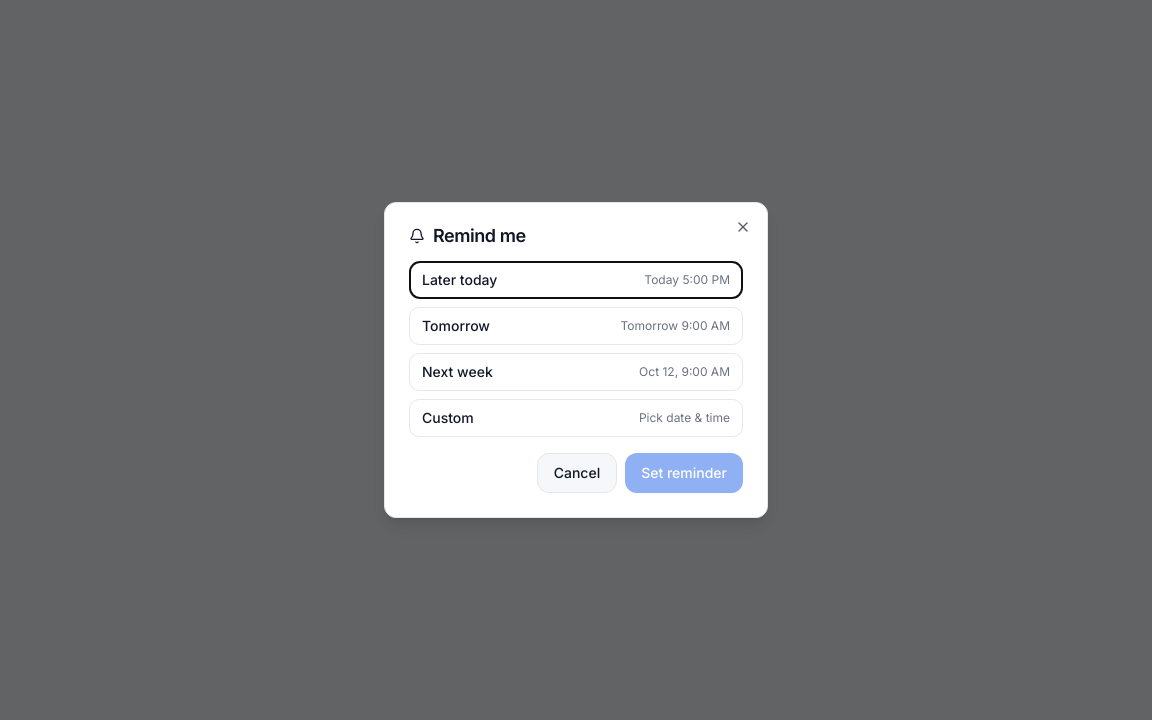
Test: Remind me dialog › rejects a custom time in the past and keeps Save disabled
Click the button with test id "remind-preset-custom".
click(448, 418)  # box [409,399,743,437]
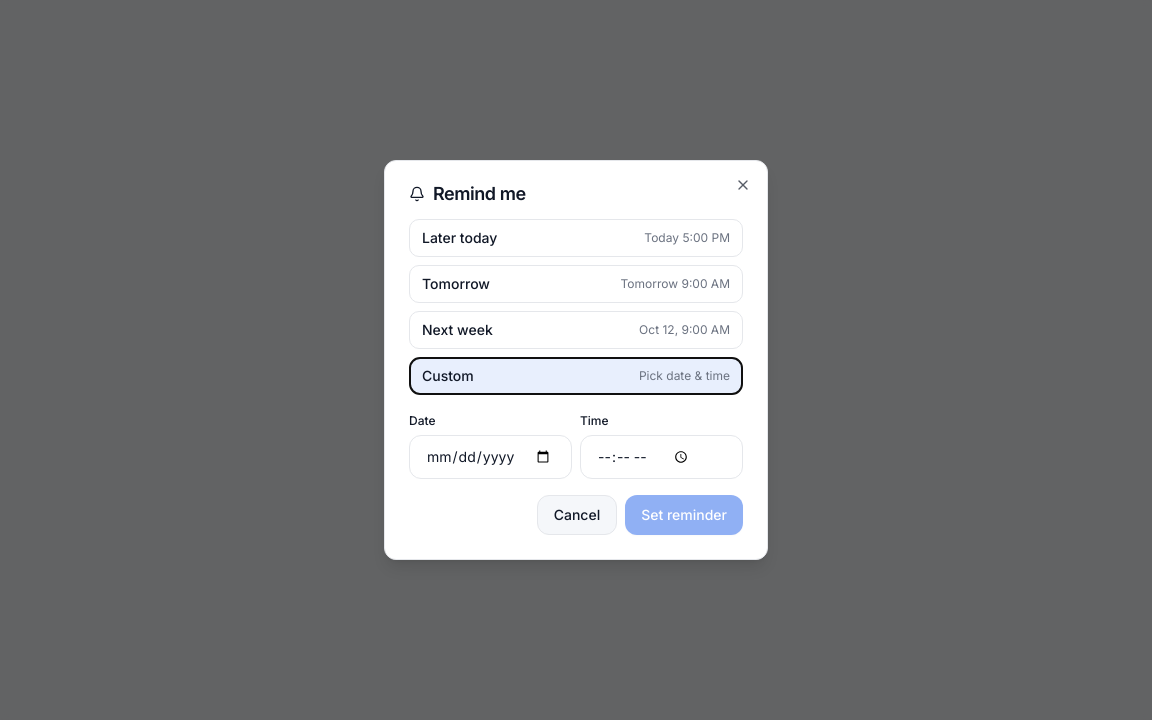
Type "2026-10-06" into the date field labelled "Date".
click(490, 457); type("2026-10-06")  # box [409,435,572,479]
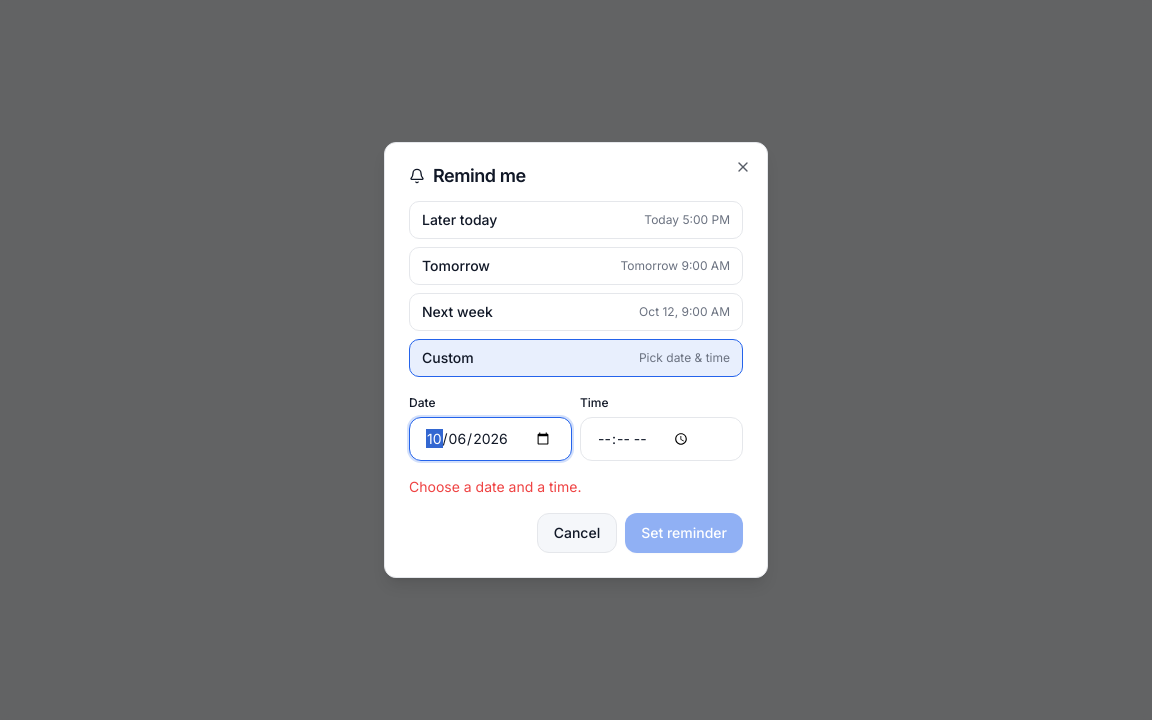
Type "09:00" into the time field labelled "Time".
click(662, 439); type("09:00")  # box [580,417,743,461]
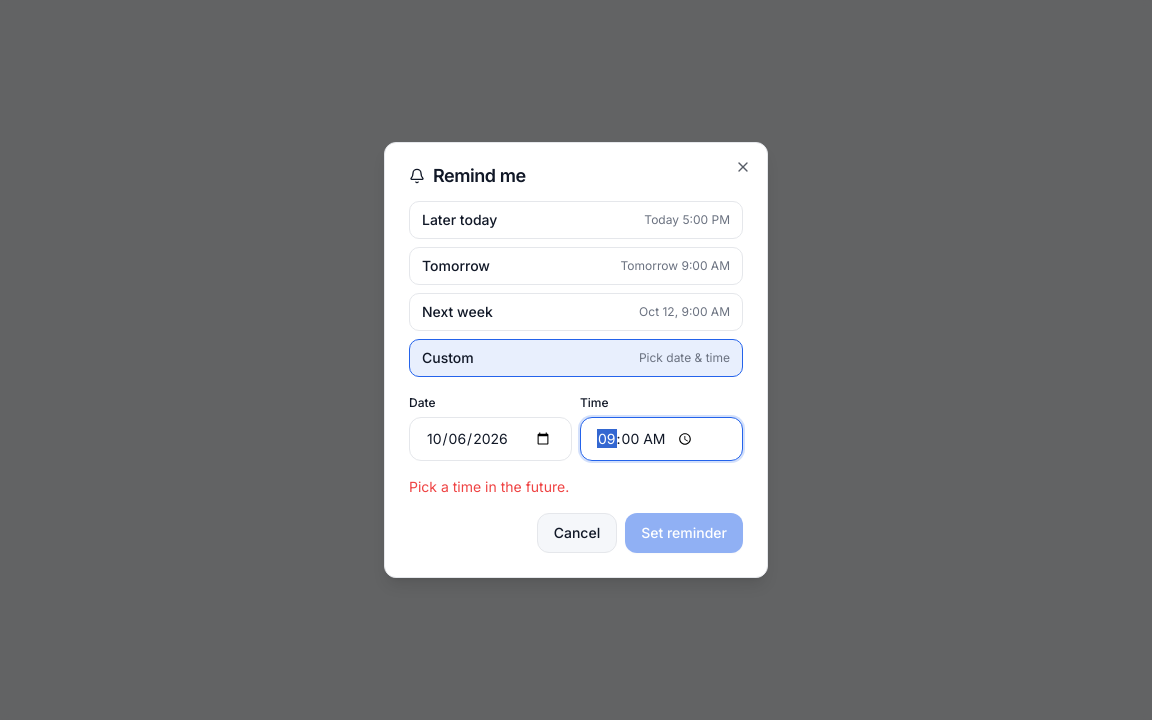
Expected: the button "Set reminder" is disabled, [625,513,743,553]
Result: the message reads "Pick a time in the future." at [409,478,569,495]
